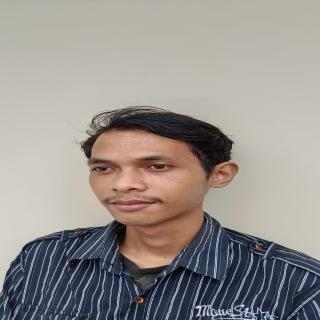Netral: (85, 125, 214, 228)
